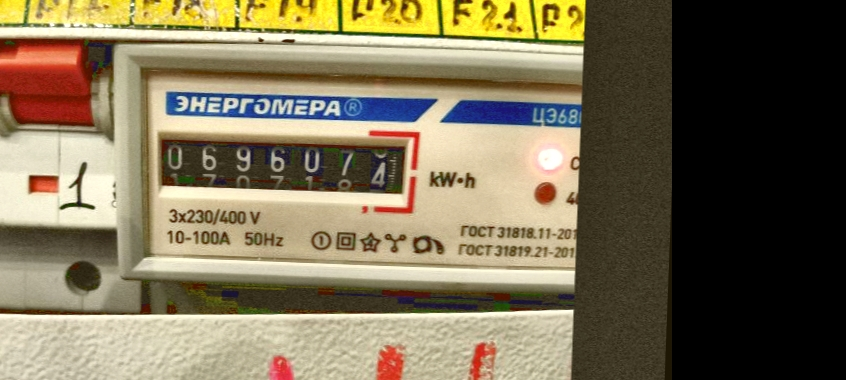0: (163, 140, 183, 170), (299, 144, 319, 172)
4: (366, 159, 385, 187)
6: (266, 143, 285, 172), (197, 142, 216, 170)
7: (334, 145, 354, 176)
9: (231, 144, 250, 172)
screen: (140, 116, 423, 214)
